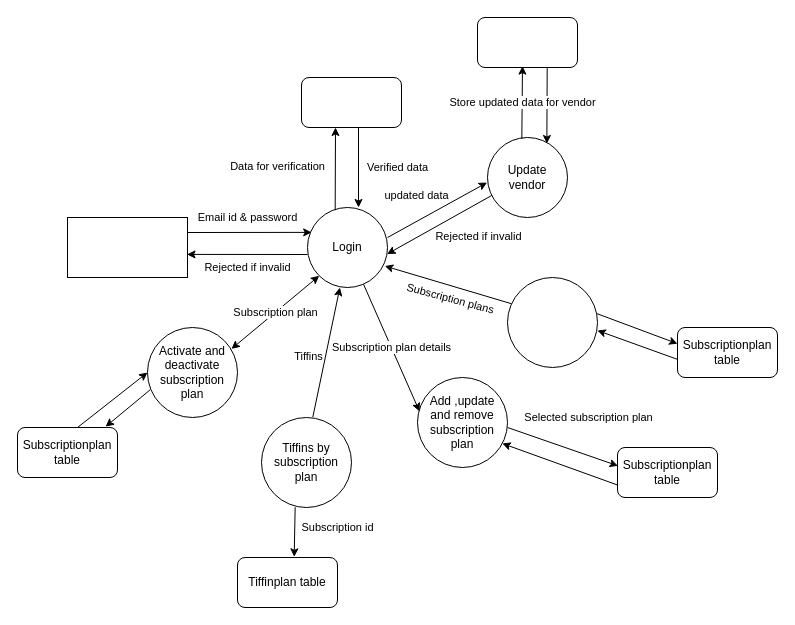
Image size: 795x625. Some labels were removed from this diagram. The centre of each missing label's shape, as x and y in pixels:
All Subscription plan (active and deactive): (552,322)
Login table: (351,102)
Vendor: (127,247)
Vendor table: (527,42)
